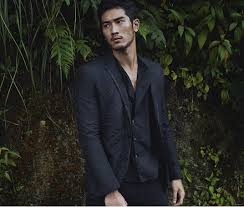asian_male: (98, 3, 138, 48)
